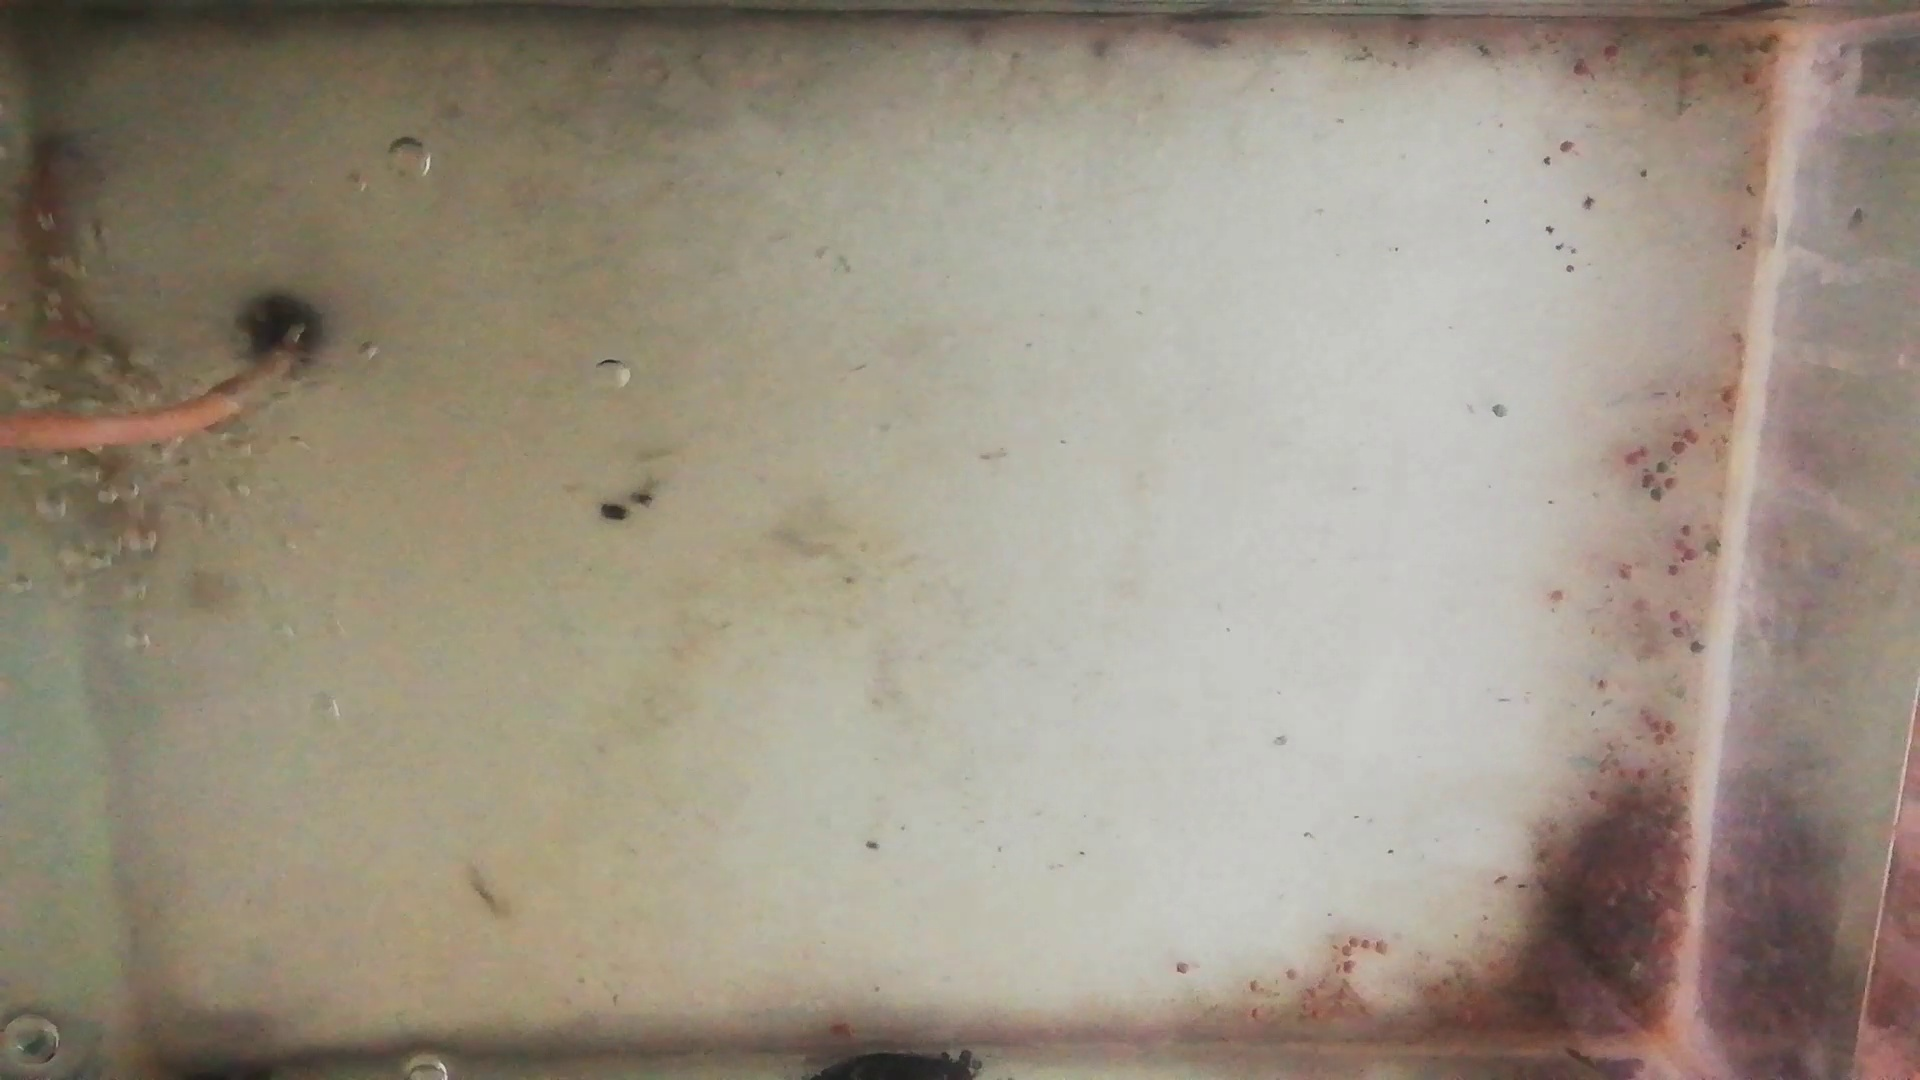fish: (21, 138, 113, 353)
